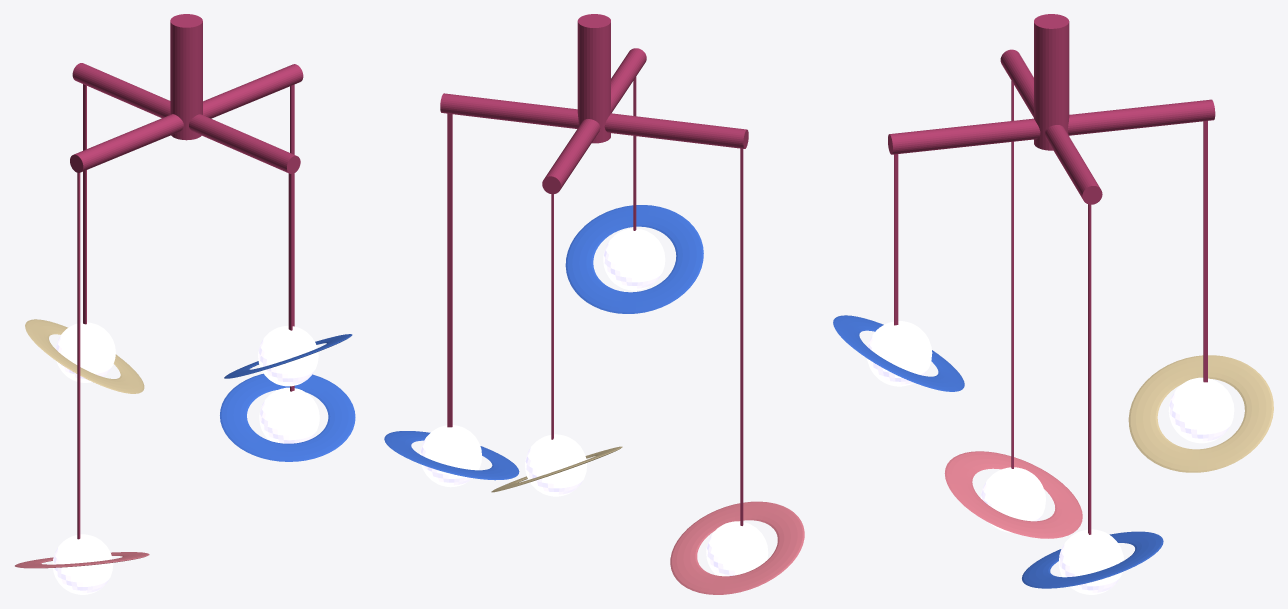
File: movil animado.fbx
The picture shows the model from 3 angles, left to right: view 1: azimuth 30°, elevation 25°; view 2: azimuth 150°, elevation 25°; view 3: azimuth 270°, elevation 25°; orthographic projection. The views are drawn at different scales.
Parts seen in each view (by area): view 1: Torus; view 2: Torus; view 3: Torus.
Part boxes in pixels (<box>): Torus: <box>15,14,355,594</box>; Torus: <box>384,14,804,594</box>; Torus: <box>833,14,1273,594</box>.
Size of the model in its own units: 150 by 211 by 148.
